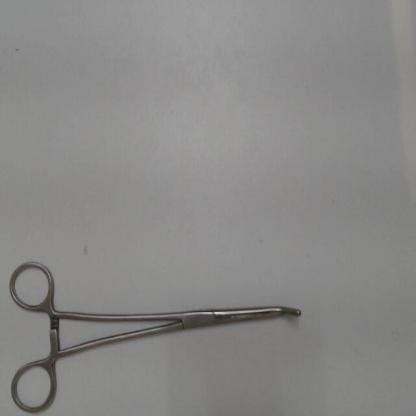Lahey Forceps: (3, 253, 310, 413)
